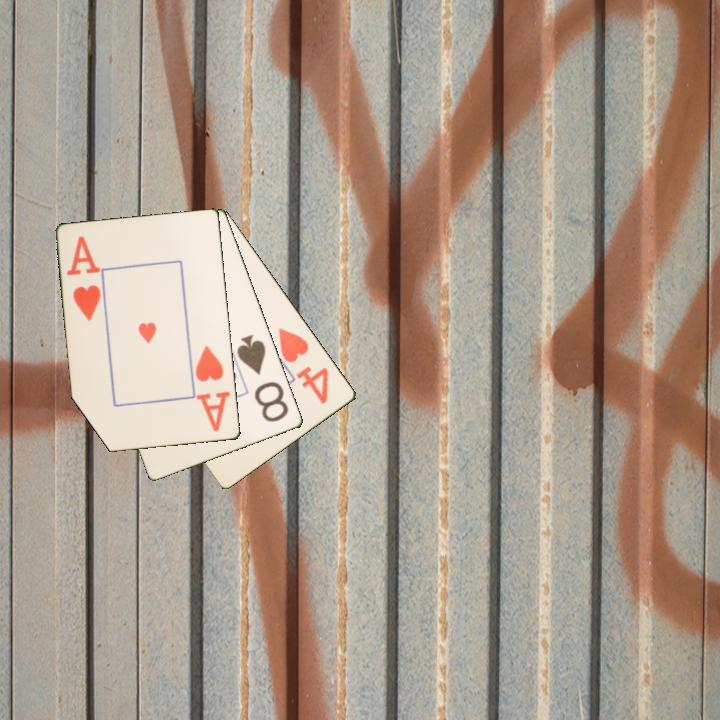4h: (275, 324, 332, 407)
8s: (234, 331, 292, 425)
Ah: (192, 342, 233, 435), (64, 233, 104, 324)
